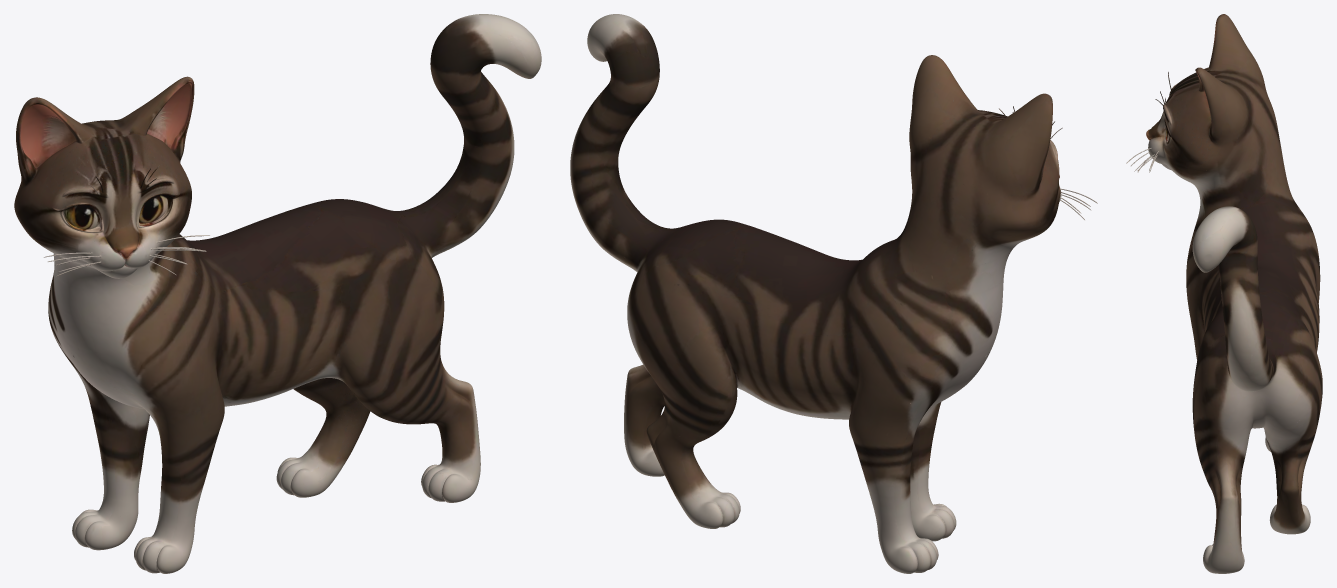
Rendered from featured-pet.glb.
3 renders of one model, left to right at view 1: azimuth 30°, elevation 25°; view 2: azimuth 150°, elevation 25°; view 3: azimuth 270°, elevation 25°, orthographic. The views are drawn at different scales.
Parts seen in each view (by area): view 1: material; view 2: material; view 3: material.
Part boxes in pixels (box(x1,y1,x2,y2)): material: box(14, 14, 541, 573); material: box(570, 14, 1097, 573); material: box(1126, 14, 1322, 573).
Size of the model in its own units: 0.9129 by 0.8466 by 0.3824.
Materials: 1 (1 with a texture image).
